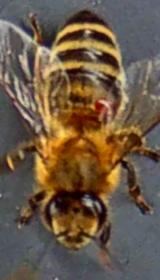varroa_mite: (91, 95, 121, 127)
